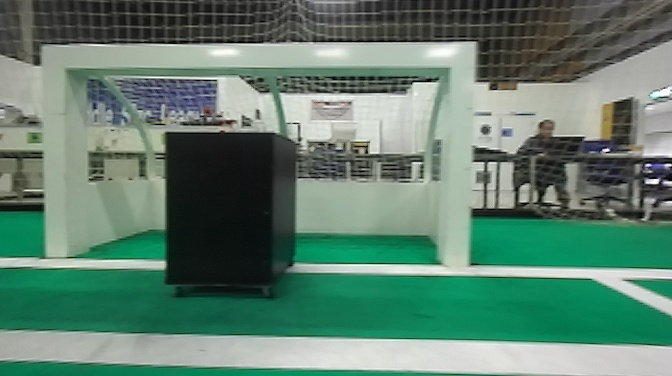goalpost: (39, 47, 88, 259), (439, 49, 471, 266)
